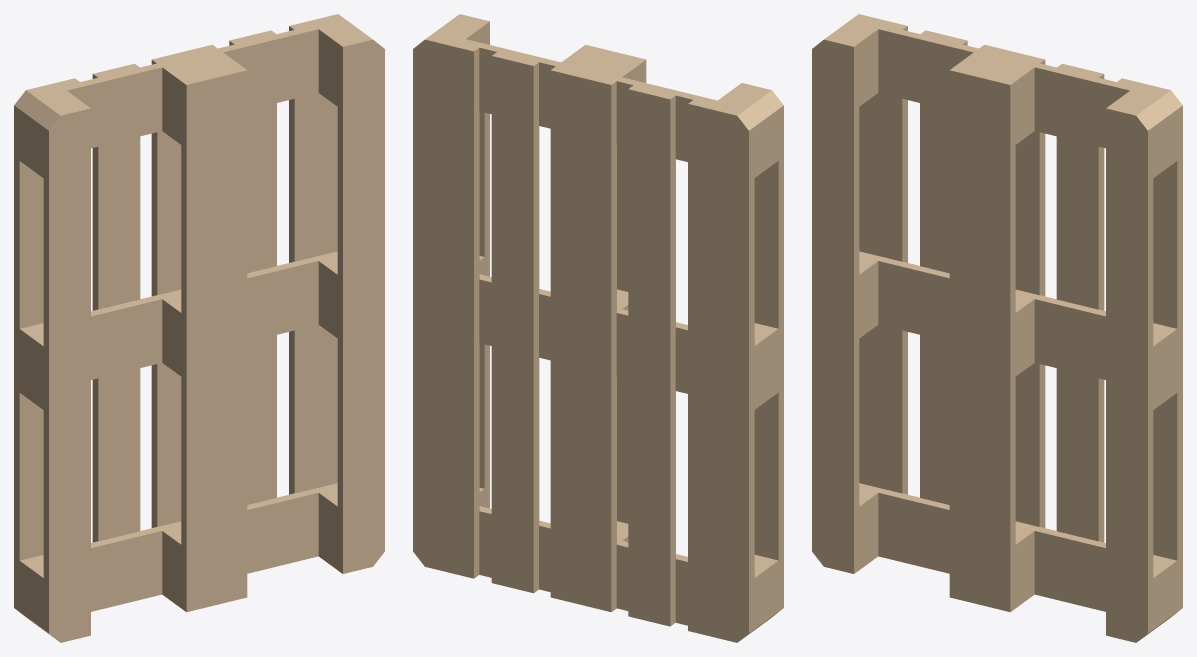
Rendered from pallet.glb.
The picture shows the model from 3 angles, left to right: view 1: azimuth 30°, elevation 25°; view 2: azimuth 150°, elevation 25°; view 3: azimuth 330°, elevation 25°; orthographic projection.
Visible parts, largest first — view 1: Node1; view 2: Node1; view 3: Node1.
Boxes of the visible parts, box(x1,y1,x2,y2) form: Node1: box(14, 14, 384, 642); Node1: box(413, 14, 783, 642); Node1: box(812, 14, 1182, 642).
Size of the model in its own units: 800 by 1200 by 144.
